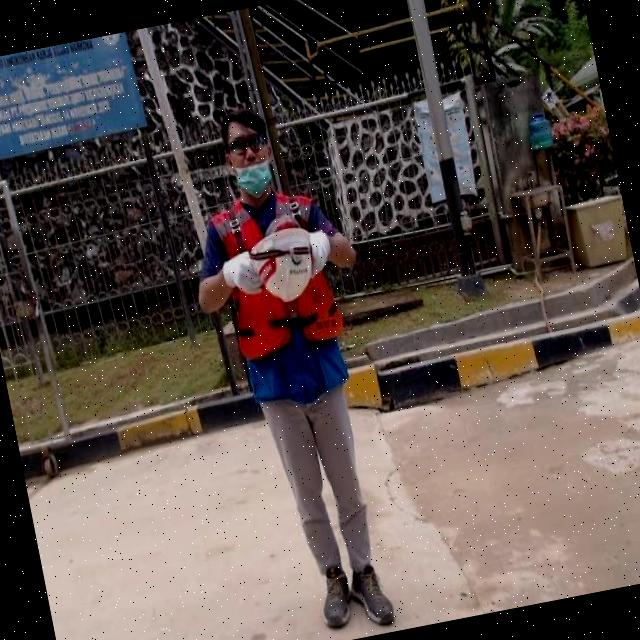boots: (346, 564, 397, 634), (314, 562, 358, 634)
